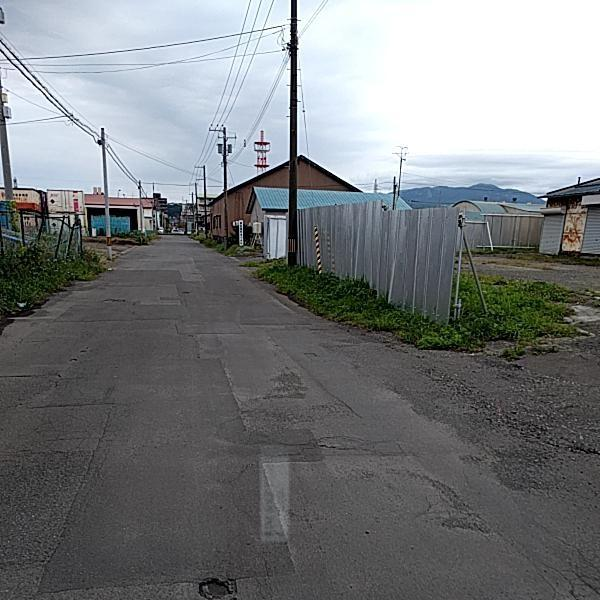pothole: (193, 567, 235, 600)
